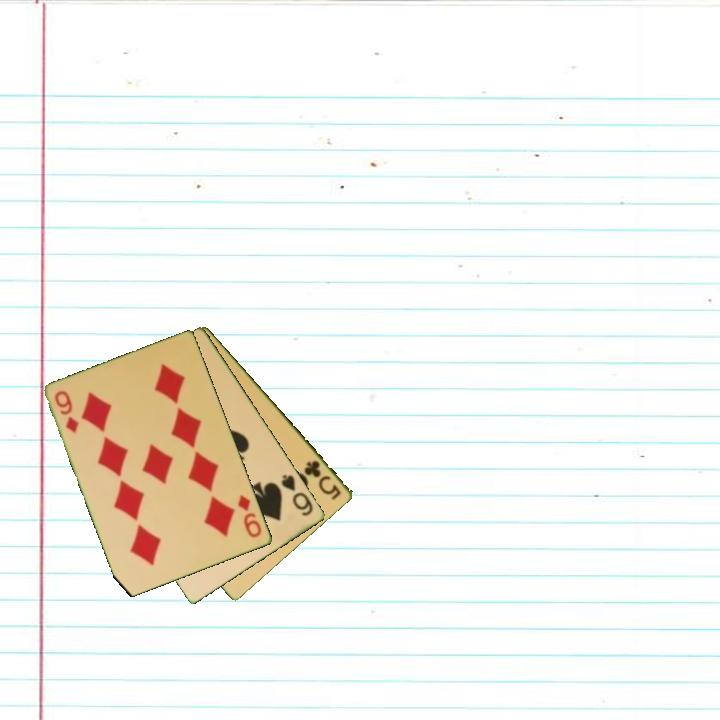5c: (301, 457, 344, 503)
6s: (278, 471, 316, 519)
9d: (234, 491, 265, 541), (51, 387, 82, 436)
